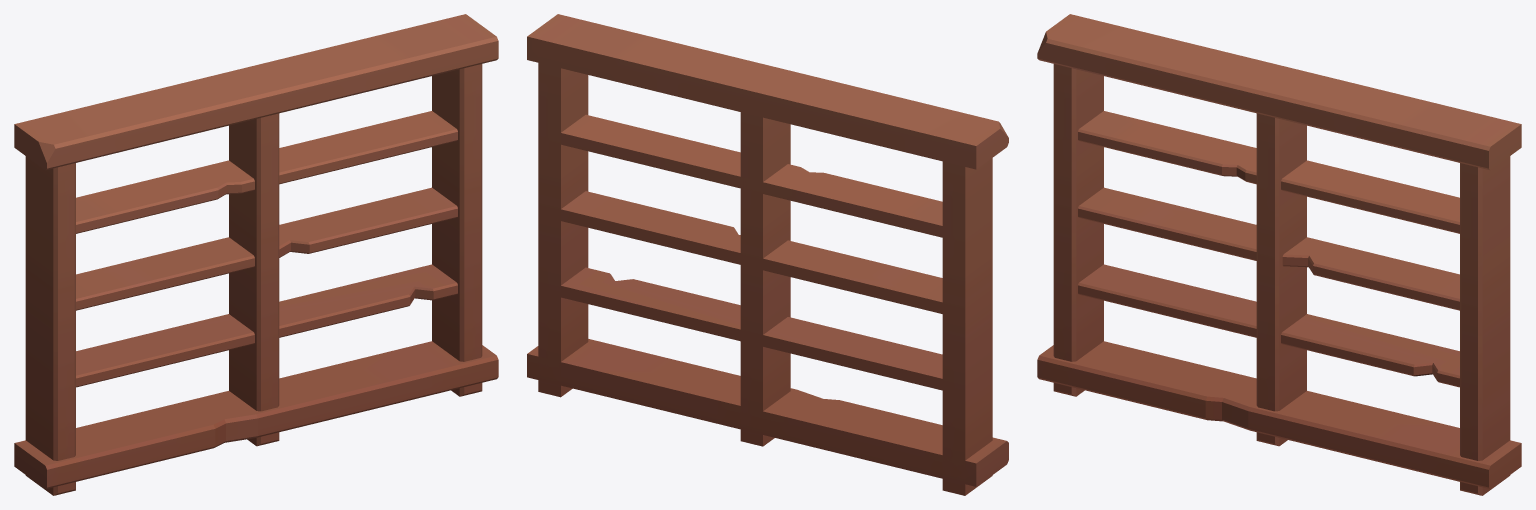
Rendered from bookcase_double.glb.
The picture shows the model from 3 angles, left to right: view 1: azimuth 30°, elevation 25°; view 2: azimuth 150°, elevation 25°; view 3: azimuth 330°, elevation 25°; orthographic projection.
Parts seen in each view (by area): view 1: bookcase_double; view 2: bookcase_double; view 3: bookcase_double.
Part boxes in pixels (left/top/right/bottom): bookcase_double: left=14, top=14, right=498, bottom=495; bookcase_double: left=527, top=14, right=1008, bottom=495; bookcase_double: left=1037, top=14, right=1521, bottom=495.
Size of the model in its own units: 4 by 3 by 0.5.
1 material, 1 textured.
